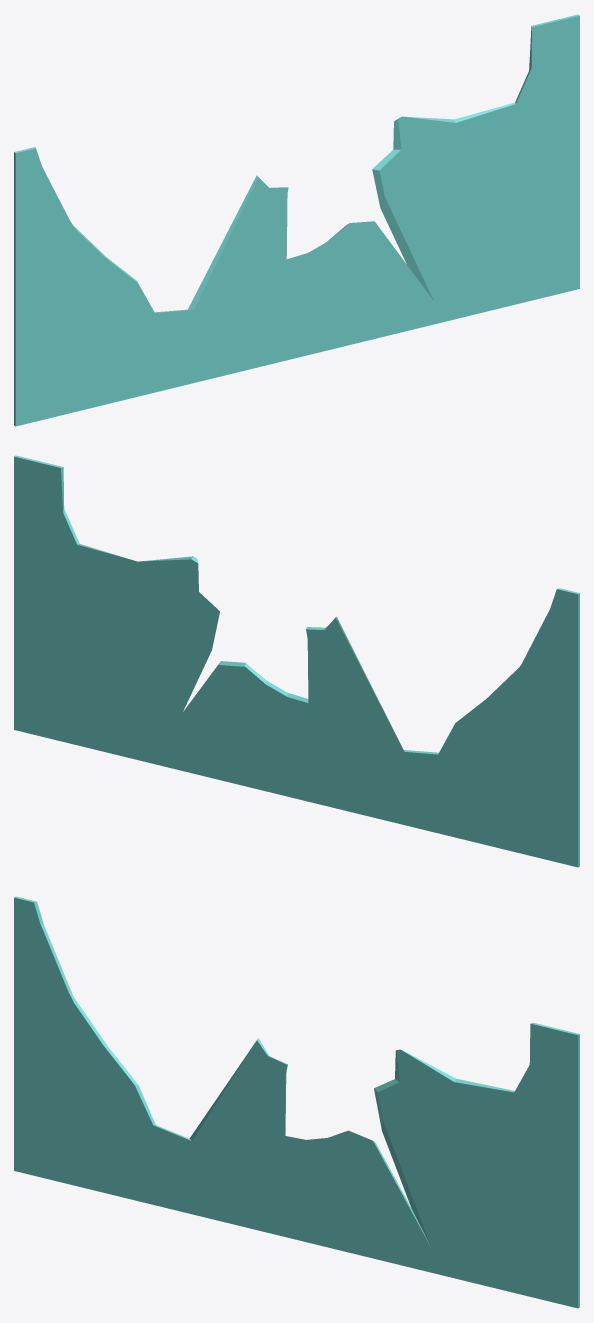
The model's file is Glass Long Destroyed A.fbx.
3 renders of one model, top to bottom at view 1: azimuth 30°, elevation 25°; view 2: azimuth 150°, elevation 25°; view 3: azimuth 330°, elevation 25°, orthographic.
Parts seen in each view (by area): view 1: Glass destroyed Long A; view 2: Glass destroyed Long A; view 3: Glass destroyed Long A.
Boxes of the visible parts, box(x1,y1,x2,y2) form: Glass destroyed Long A: box(14, 14, 579, 426); Glass destroyed Long A: box(14, 455, 579, 867); Glass destroyed Long A: box(14, 896, 579, 1308).
Bounding box in the file's own units: 1.94 × 0.9 × 0.01.
